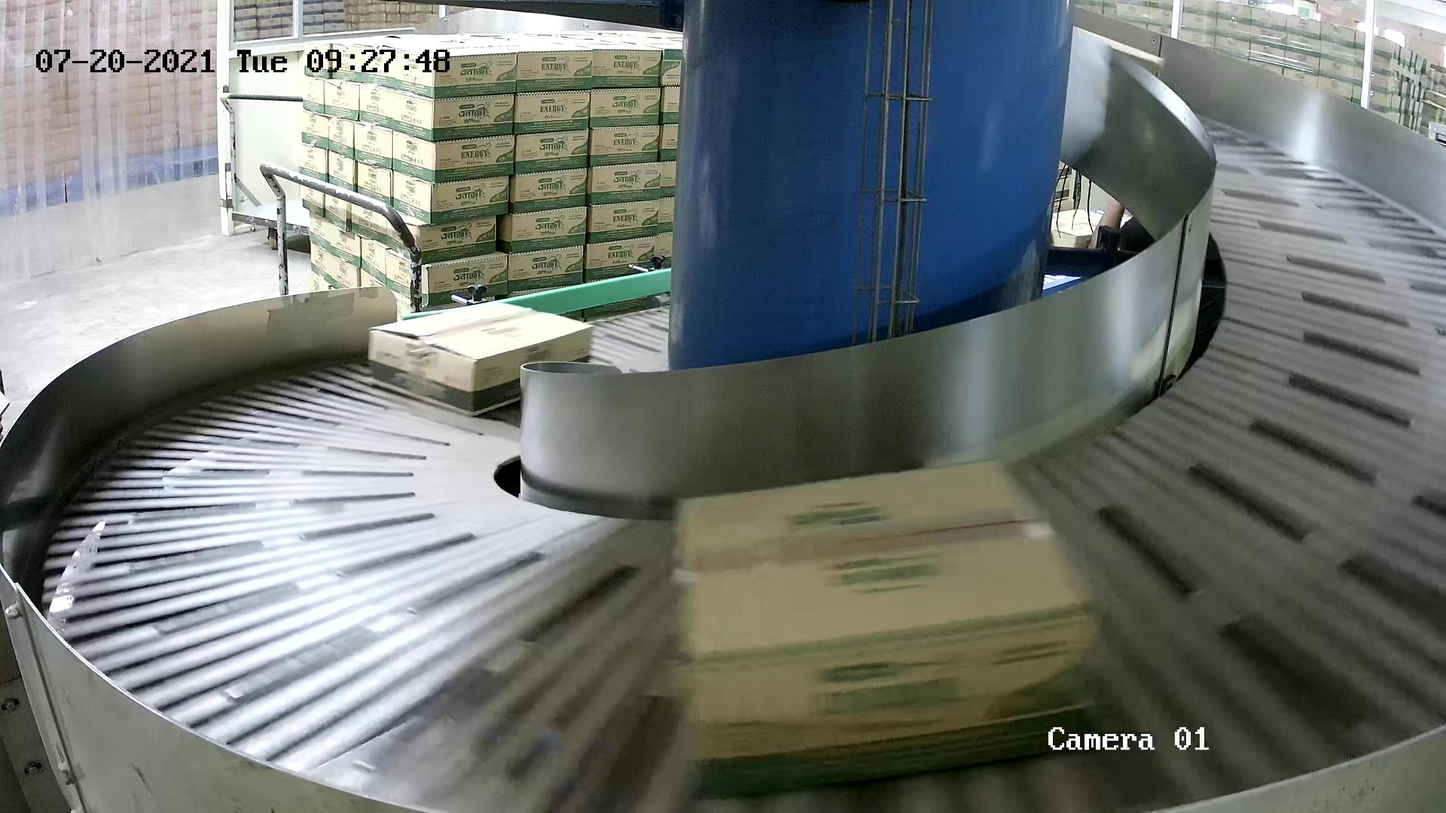Box: (673, 451, 1107, 803), (367, 298, 596, 419)
